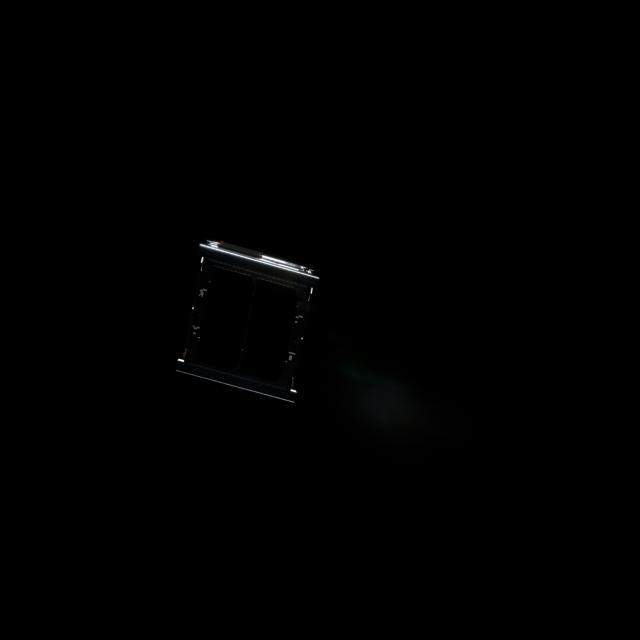medium_debris: (174, 231, 321, 411)
